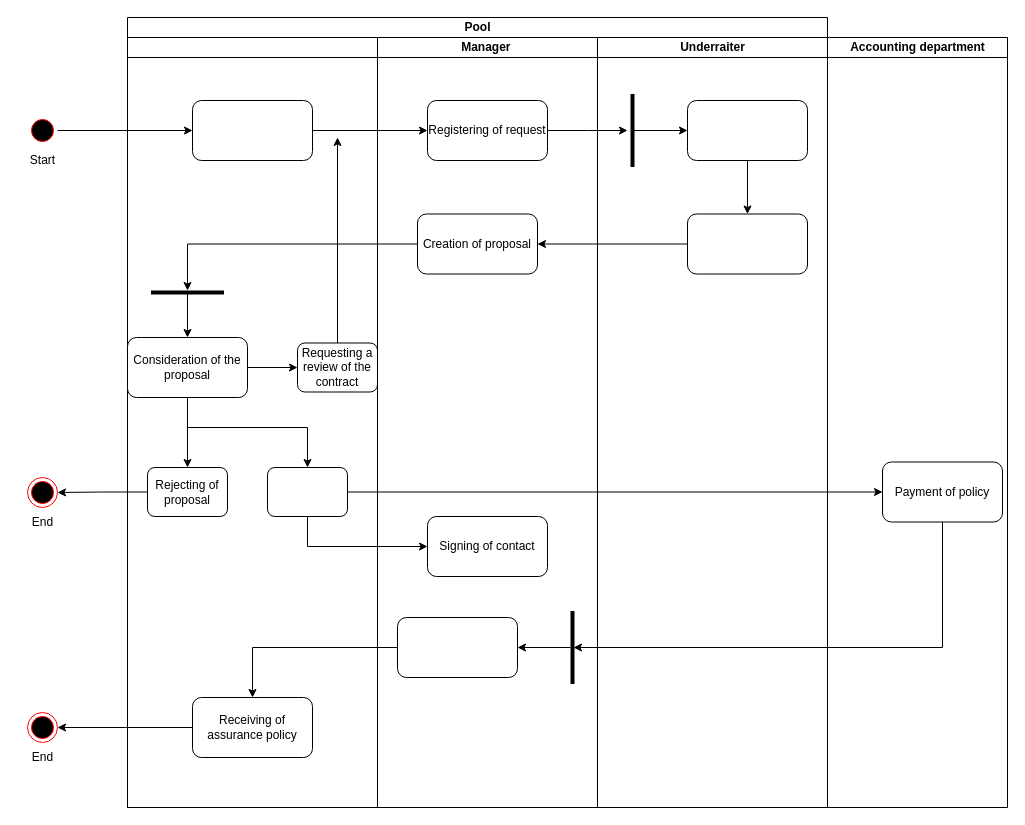
The diagram is 1025 pixels wide and 825 high, and some of its shapes have lost their labels. Here are the shapes that lost their labels. From the top down, the box of each, then its label:
(192, 100, 312, 160): Applying for assurance
(686, 100, 808, 160): Application analysis and risk assessment
(686, 213, 808, 274): Analysis of client's assurance history
(126, 36, 378, 808): Customer
(266, 466, 348, 516): Accepting of proposal
(396, 616, 518, 678): Creating of assurance policy
